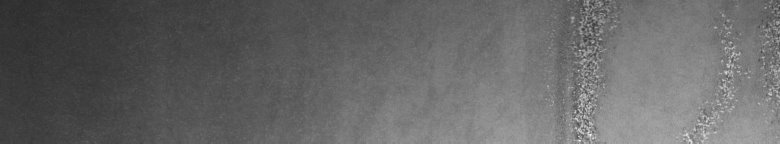hc: (564, 4, 622, 136)
